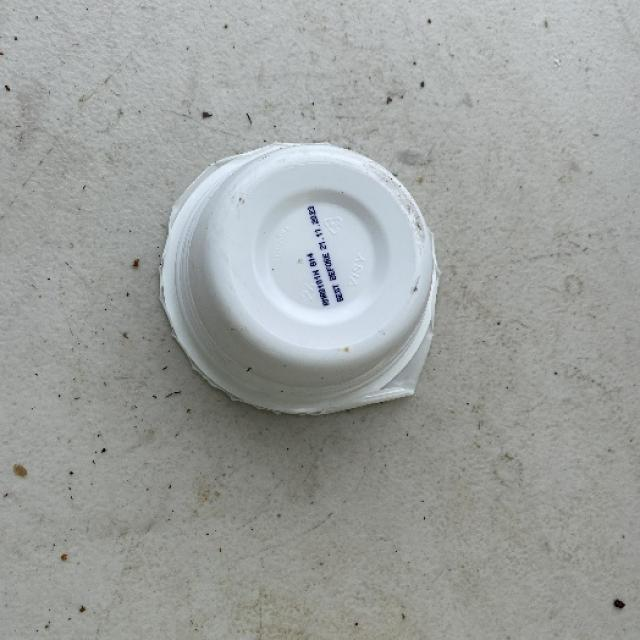plastic: (158, 140, 440, 416)
